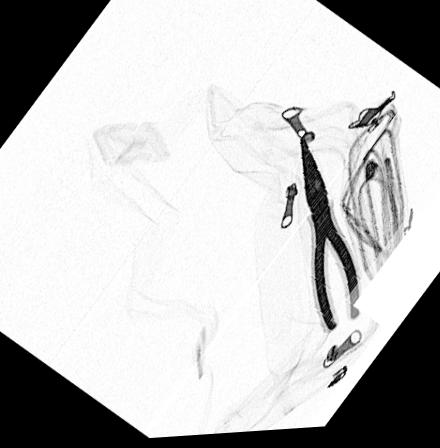Pliers: (300, 139, 364, 337)
